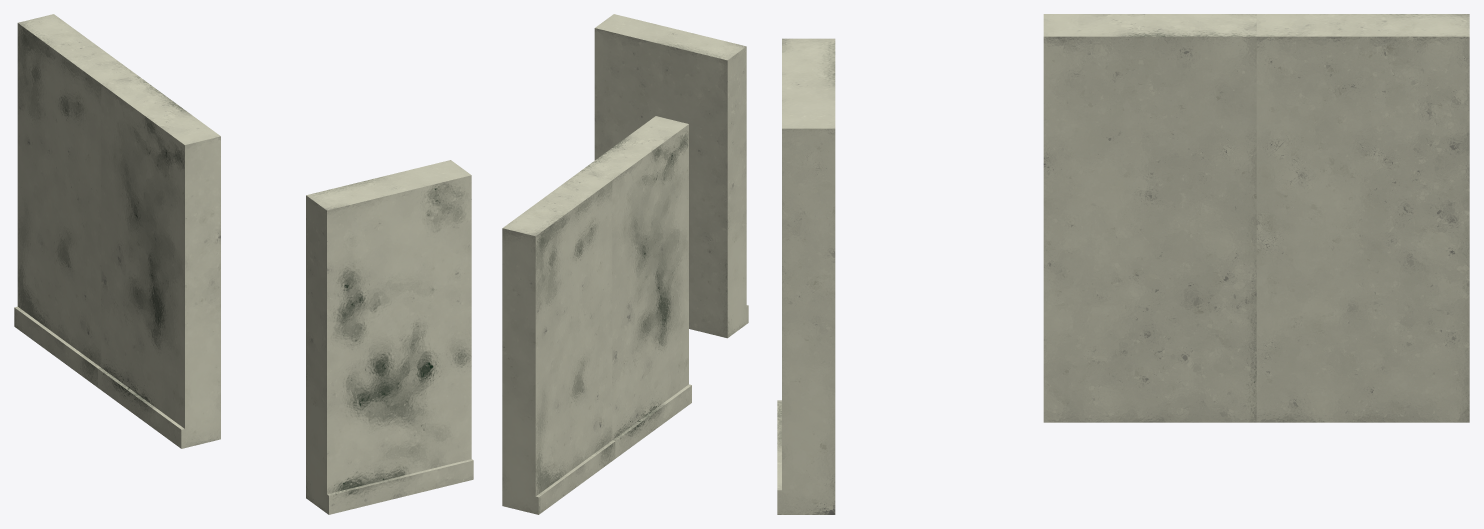
Rendered from WallBits_IsideCorner.fbx.
The picture shows the model from 3 angles, left to right: view 1: azimuth 30°, elevation 25°; view 2: azimuth 150°, elevation 25°; view 3: azimuth 270°, elevation 25°; orthographic projection. The views are drawn at different scales.
Parts seen in each view (by area): view 1: Simple_Wall_Model__199_, Simple_Wall_Model__148_, Simple_Wall_Model__138_; view 2: Simple_Wall_Model__138_, Simple_Wall_Model__199_, Simple_Wall_Model__148_; view 3: Simple_Wall_Model__148_, Simple_Wall_Model__138_, Simple_Wall_Model__199_.
Boxes of the visible parts, left/top/right/bottom form: Simple_Wall_Model__199_: left=306, top=160, right=473, bottom=514; Simple_Wall_Model__148_: left=98, top=75, right=220, bottom=448; Simple_Wall_Model__138_: left=14, top=14, right=136, bottom=387; Simple_Wall_Model__138_: left=502, top=172, right=615, bottom=514; Simple_Wall_Model__199_: left=594, top=14, right=748, bottom=338; Simple_Wall_Model__148_: left=579, top=116, right=691, bottom=458; Simple_Wall_Model__148_: left=1043, top=14, right=1256, bottom=422; Simple_Wall_Model__138_: left=1256, top=14, right=1469, bottom=422; Simple_Wall_Model__199_: left=777, top=38, right=835, bottom=514.
Size of what is drawn, in the model's own units: 259 by 400 by 650.
